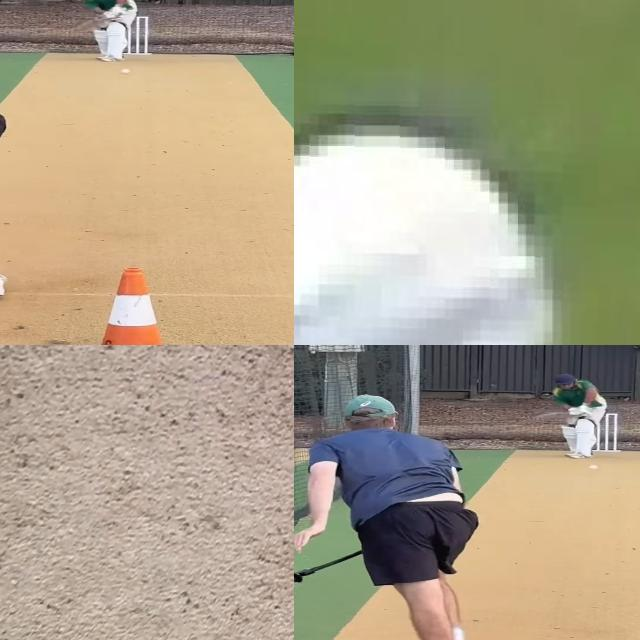Cricket ball: (294, 96, 562, 345), (120, 67, 133, 75), (589, 464, 600, 471)
Stumps: (592, 413, 619, 454)
